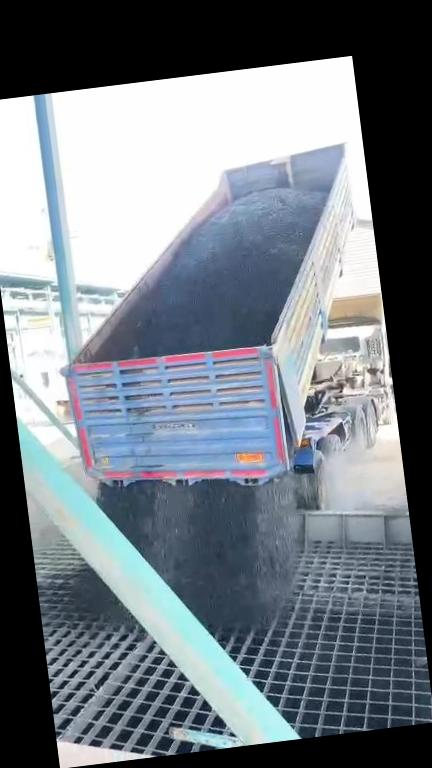gravel: (132, 189, 324, 356), (98, 481, 300, 631), (72, 562, 133, 623)
